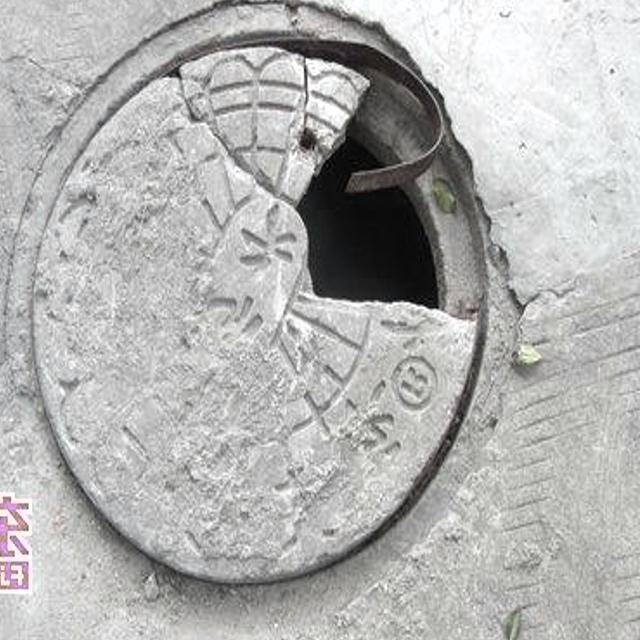broke: (0, 0, 530, 619)
